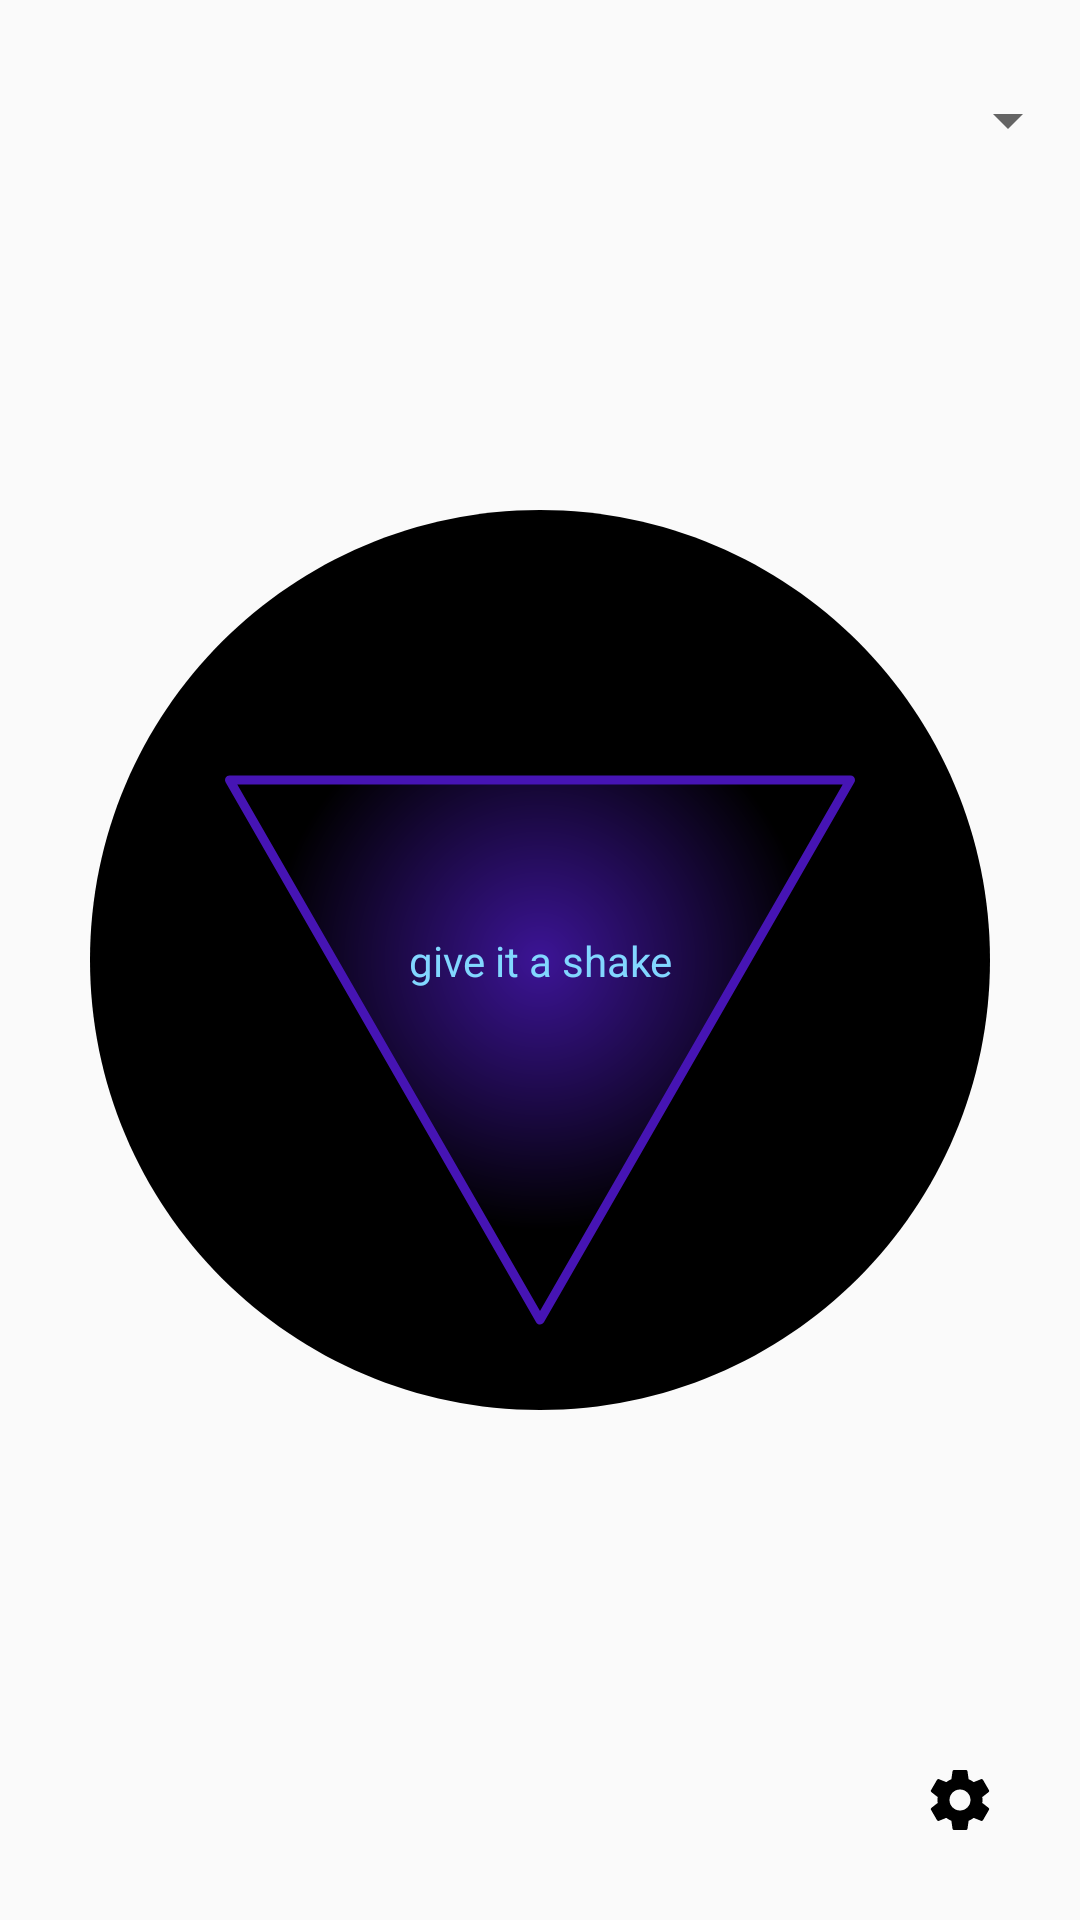

Icons on this 1080w x 1920h Android screen, each with its box as (x1, y1, x2, y2):
settings: (930, 1770, 989, 1830)
